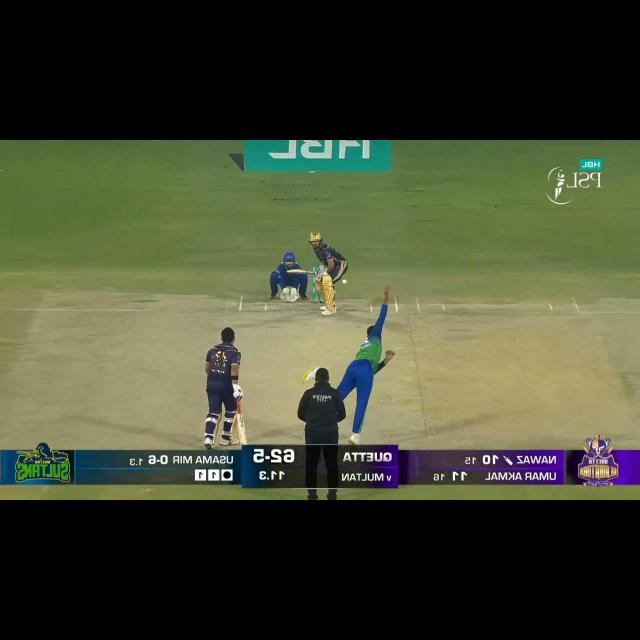bat: (235, 413, 250, 446), (287, 268, 314, 274)
toe: (238, 438, 248, 446), (287, 269, 293, 274)
